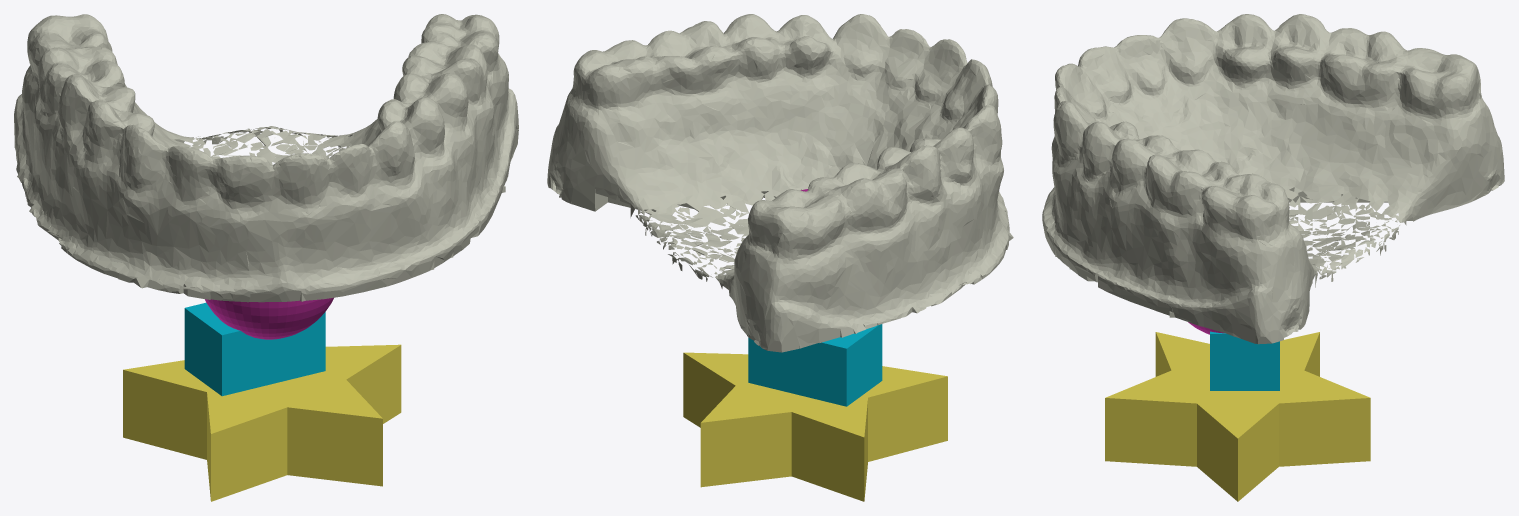
File: Tinkercad_mouth.glb
3 renders of one model, left to right at view 1: azimuth 30°, elevation 25°; view 2: azimuth 150°, elevation 25°; view 3: azimuth 270°, elevation 25°, orthographic. The views are drawn at different scales.
Visible parts, largest first — view 1: Mesh_Mesh_head_geo.001_lambert2SG.001; view 2: Mesh_Mesh_head_geo.001_lambert2SG.001; view 3: Mesh_Mesh_head_geo.001_lambert2SG.001.
Boxes of the visible parts, box(x1,y1,x2,y2) form: Mesh_Mesh_head_geo.001_lambert2SG.001: box(14, 14, 518, 501); Mesh_Mesh_head_geo.001_lambert2SG.001: box(547, 14, 1013, 501); Mesh_Mesh_head_geo.001_lambert2SG.001: box(1042, 14, 1504, 501).
Bounding box in the file's own units: 0.0698 × 0.0564 × 0.0662.
